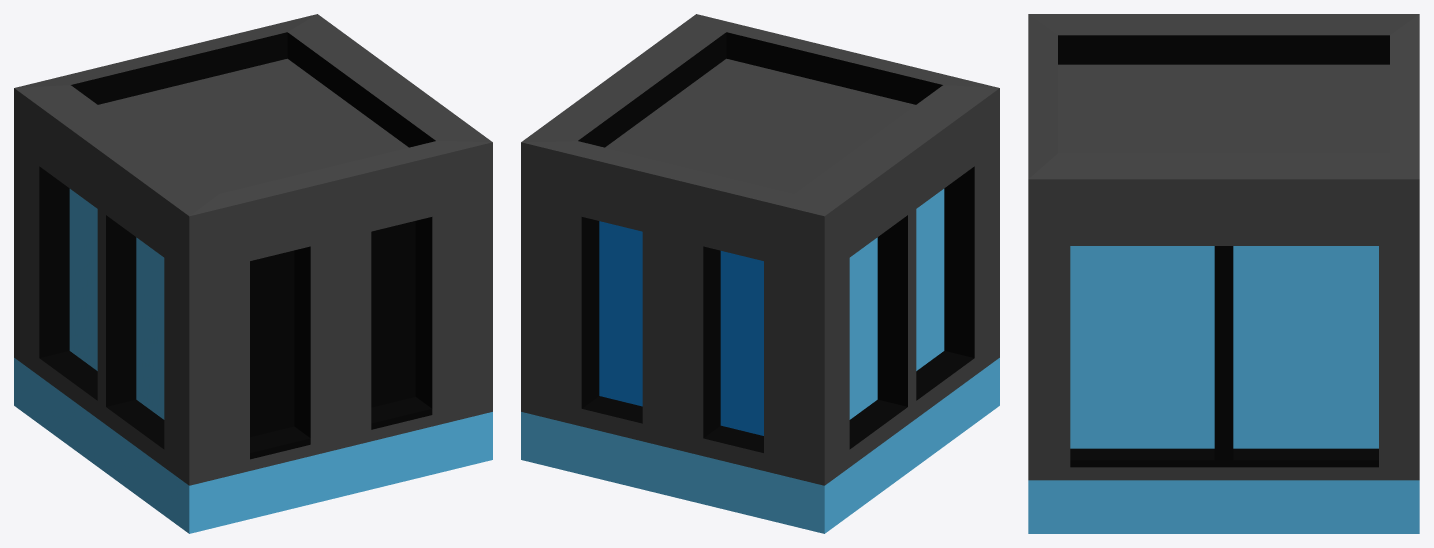
3 views of the same model, side by side, from view 1: azimuth 30°, elevation 25°; view 2: azimuth 150°, elevation 25°; view 3: azimuth 270°, elevation 25° (orthographic). The views are drawn at different scales.
Visible parts, largest first — view 1: building.002; view 2: building.002; view 3: building.002.
Part boxes in pixels (left/top/right/bottom): building.002: left=14, top=14, right=492, bottom=533; building.002: left=521, top=14, right=999, bottom=533; building.002: left=1028, top=14, right=1419, bottom=533.
Size of the model in its own units: 100 by 101 by 100.
